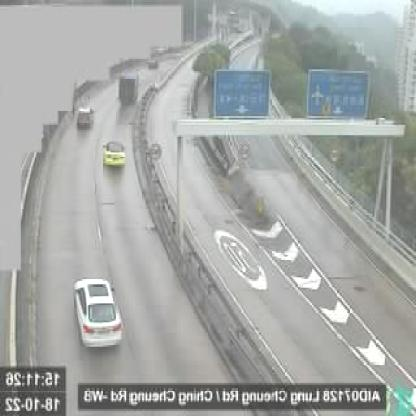Car: (71, 276, 125, 350), (102, 138, 126, 169), (76, 106, 95, 130)
Truck: (117, 68, 140, 105)
